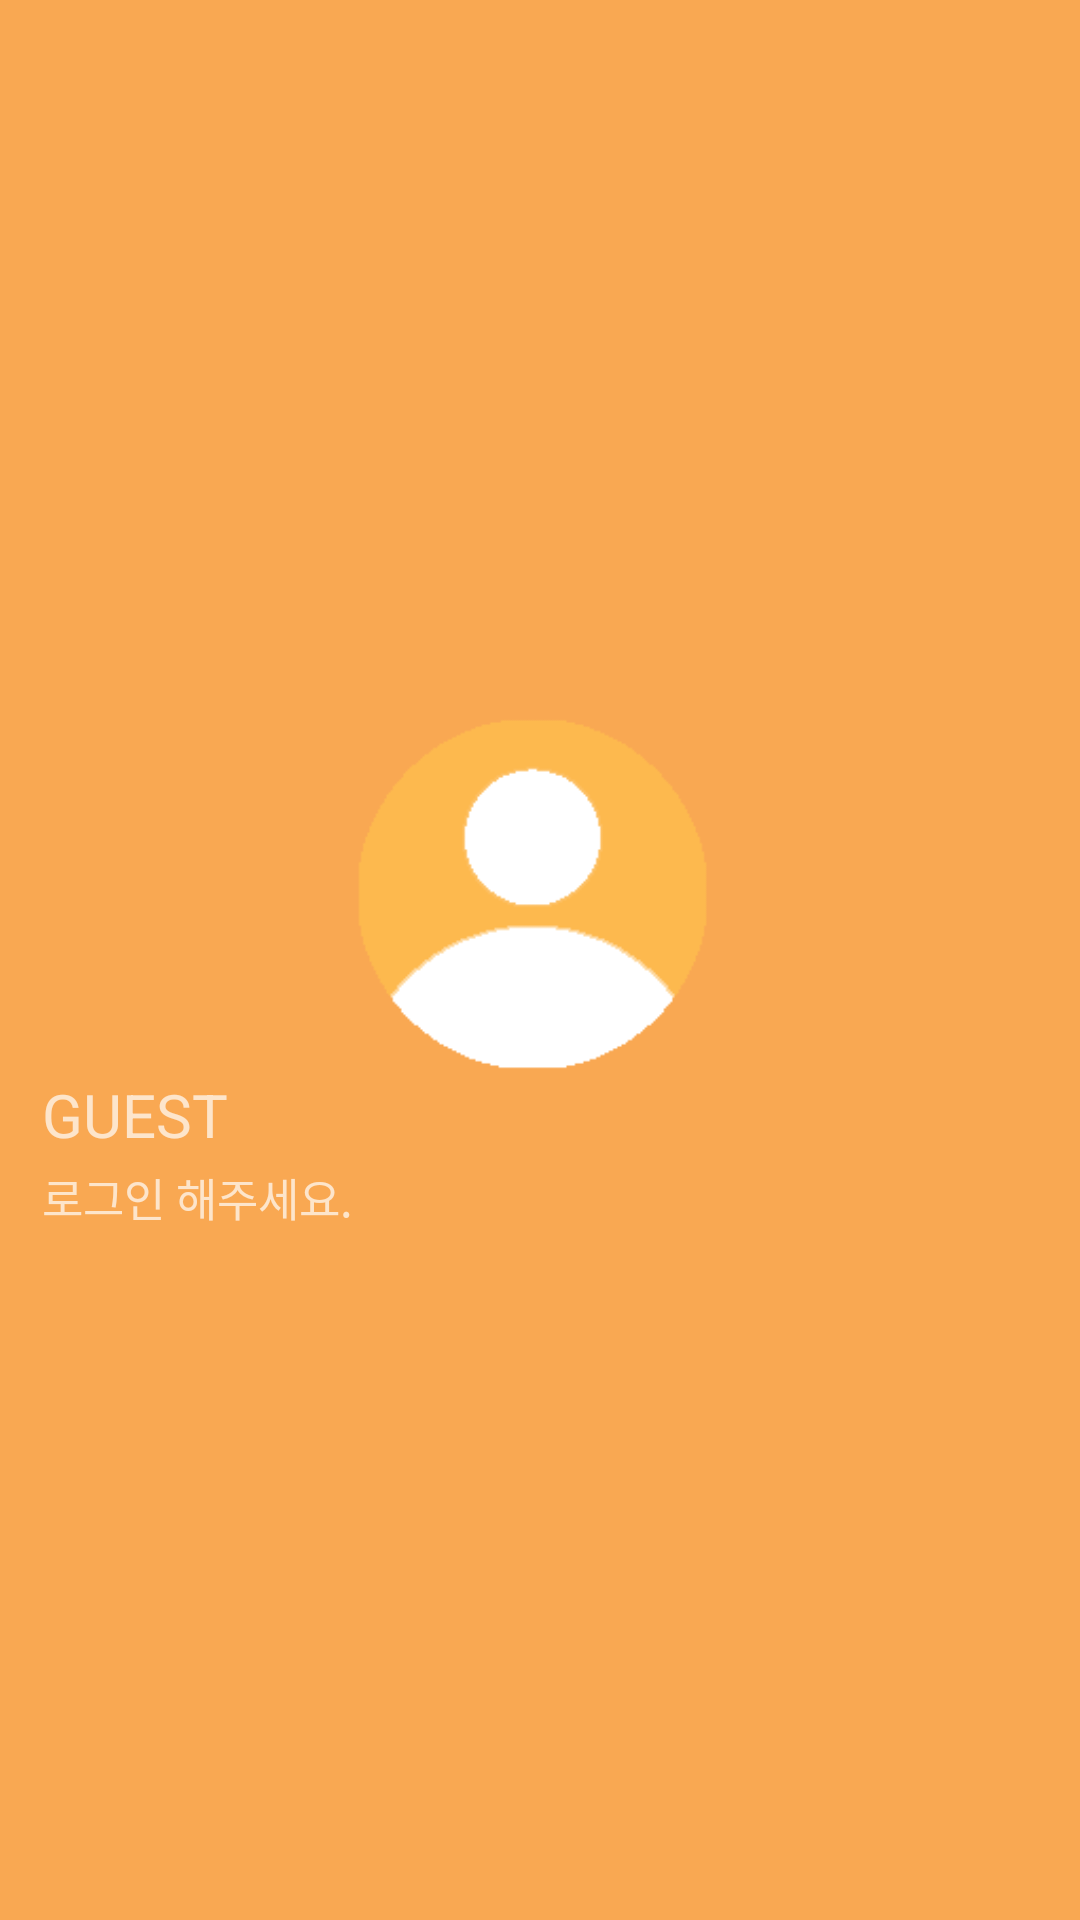

Locate icon controls on the screen. Image size 1080w x 1920h, boxes as (x1, y1, x2, y2).
user: (390, 768, 675, 1068)
